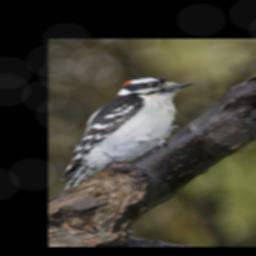Woodpecker: (61, 77, 195, 193)
